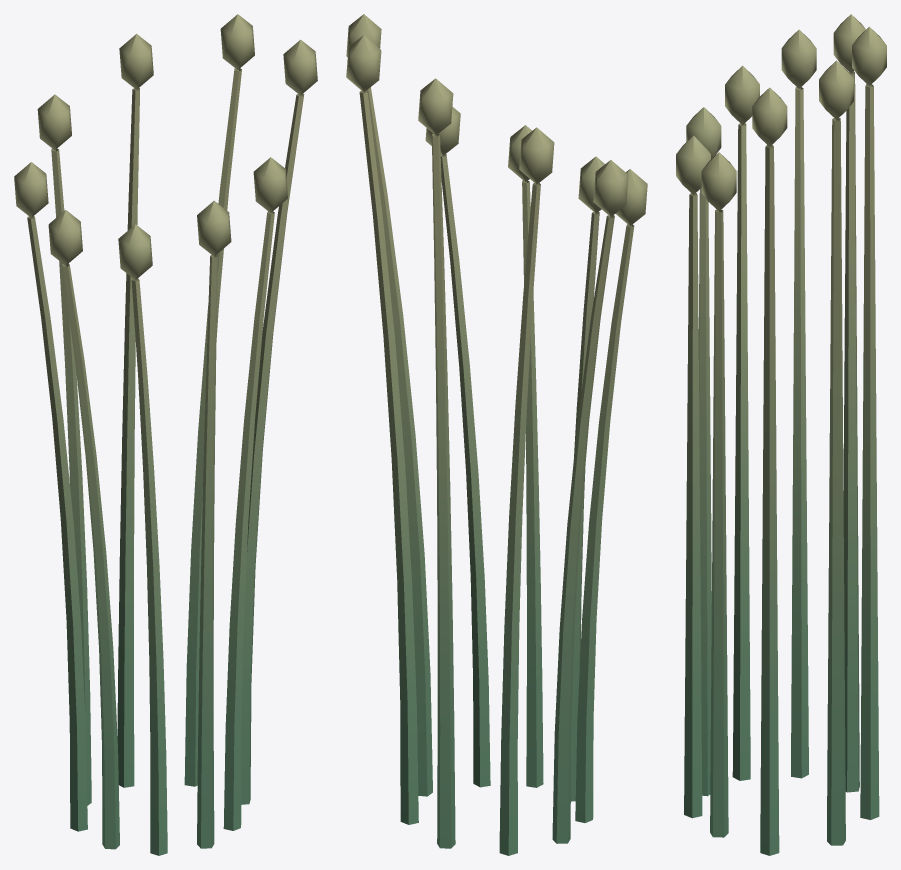
The model's file is flora_reed_01_mesh_900.glb.
The picture shows the model from 3 angles, left to right: view 1: azimuth 30°, elevation 25°; view 2: azimuth 150°, elevation 25°; view 3: azimuth 270°, elevation 25°; orthographic projection. The views are drawn at different scales.
Visible parts, largest first — view 1: flora_reed; view 2: flora_reed; view 3: flora_reed.
Boxes of the visible parts, box(x1,y1,x2,y2) form: flora_reed: box(14, 14, 317, 855); flora_reed: box(346, 14, 647, 855); flora_reed: box(676, 14, 886, 855).
Bounding box in the file's own units: 0.7652 × 1.94 × 0.4606.
